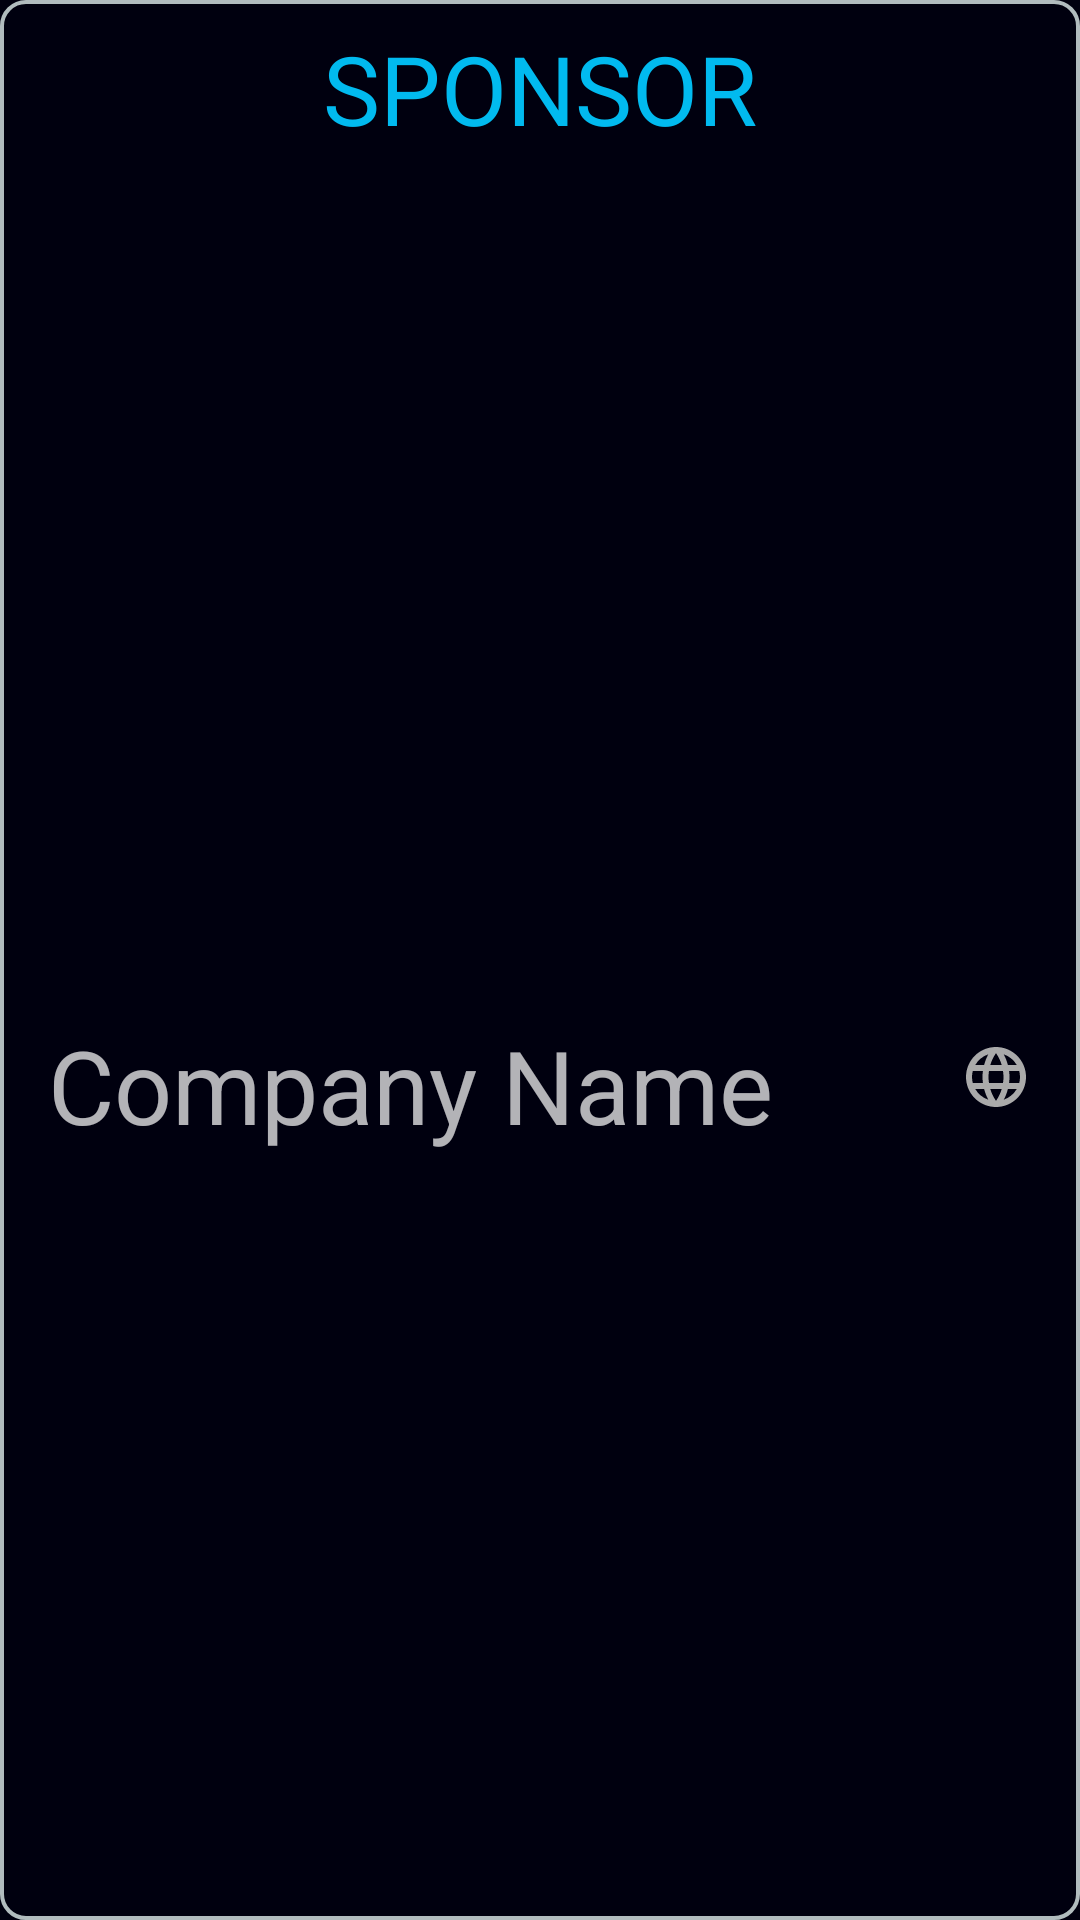

Icons on this 1080px x 1920px Android screen, each with its box as (x1, y1, x2, y2):
website: (966, 1047, 1026, 1107)
